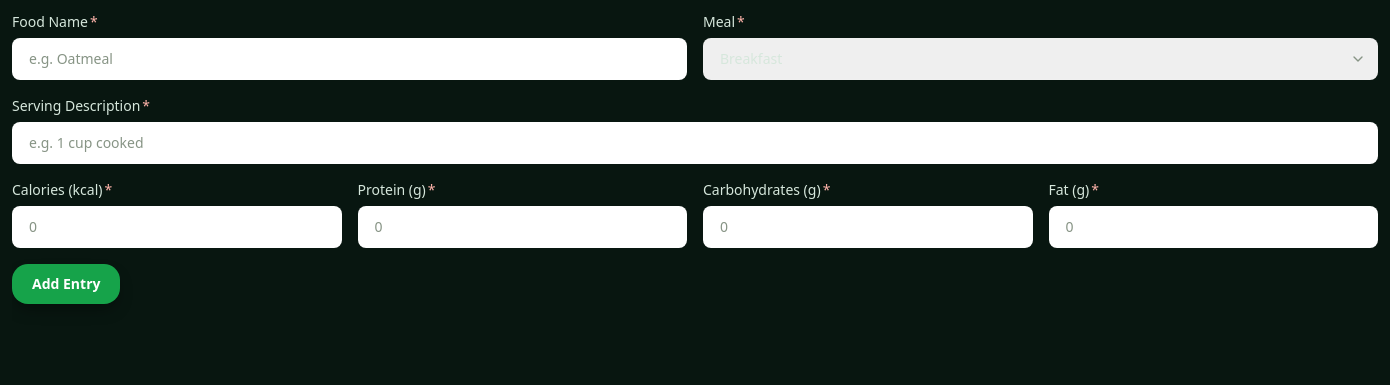
NutritionLogEntryForm › validates required fields
Click the button "Add Entry".
click(66, 284)  # box [12,264,120,304]
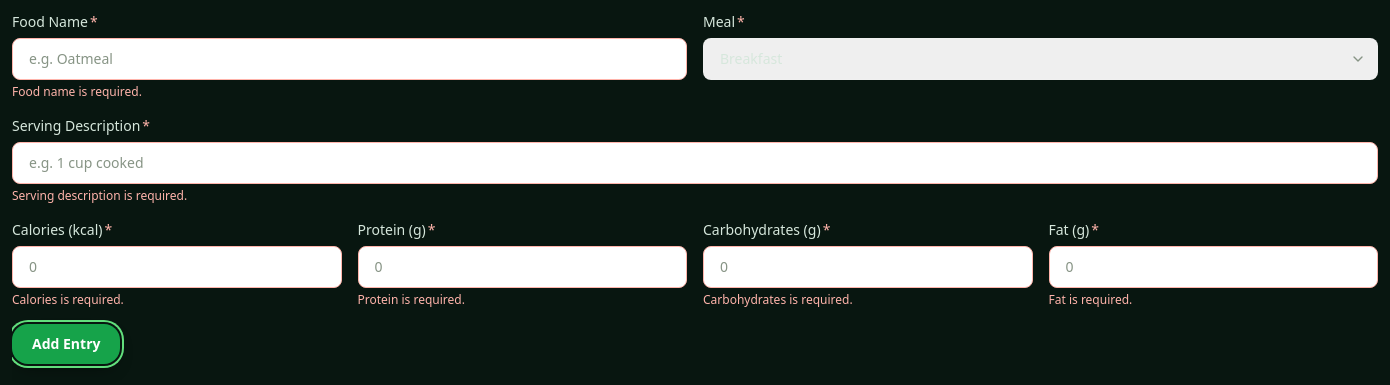
Result: the text "Food name is required." is shown at [12,83,142,100]
Result: the text "Serving description is required." is shown at [12,187,187,204]
Result: the text "Calories is required." is shown at [12,291,124,308]
